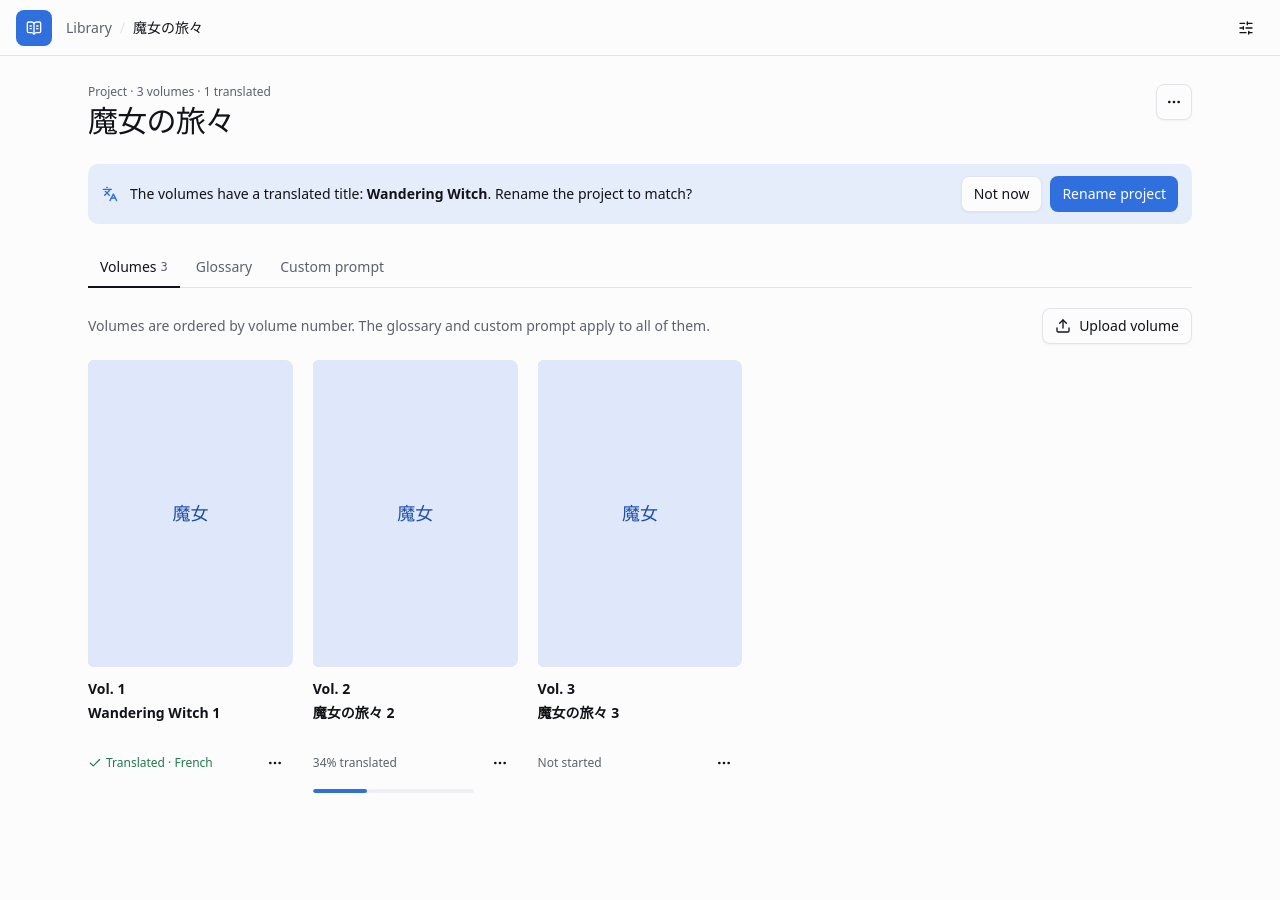
volume list › offers editor, read, volume number, move and delete in the volume menu, delete last
The width and height of the screenshot is (1280, 900).
Click the button named "Vol. 2 actions" at coordinates (500, 763), box [482, 745, 518, 781]
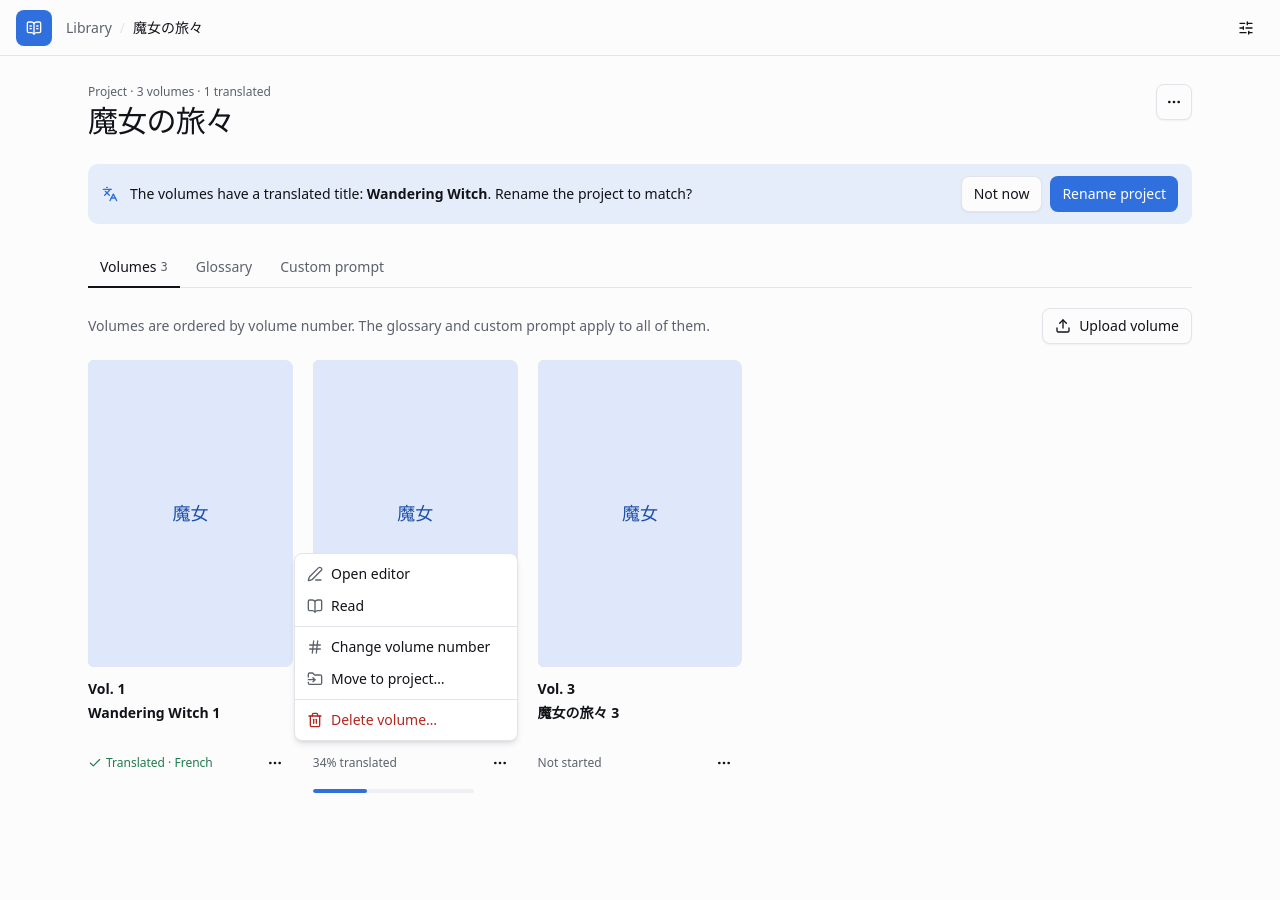
Now the menu items read "Open editor", "Read", "Change volume number", "Move to project…", "Delete volume…", in this order, box [307, 564, 410, 583]; [307, 596, 364, 615]; [307, 637, 490, 656]; [307, 669, 445, 688]; [307, 710, 437, 729]
